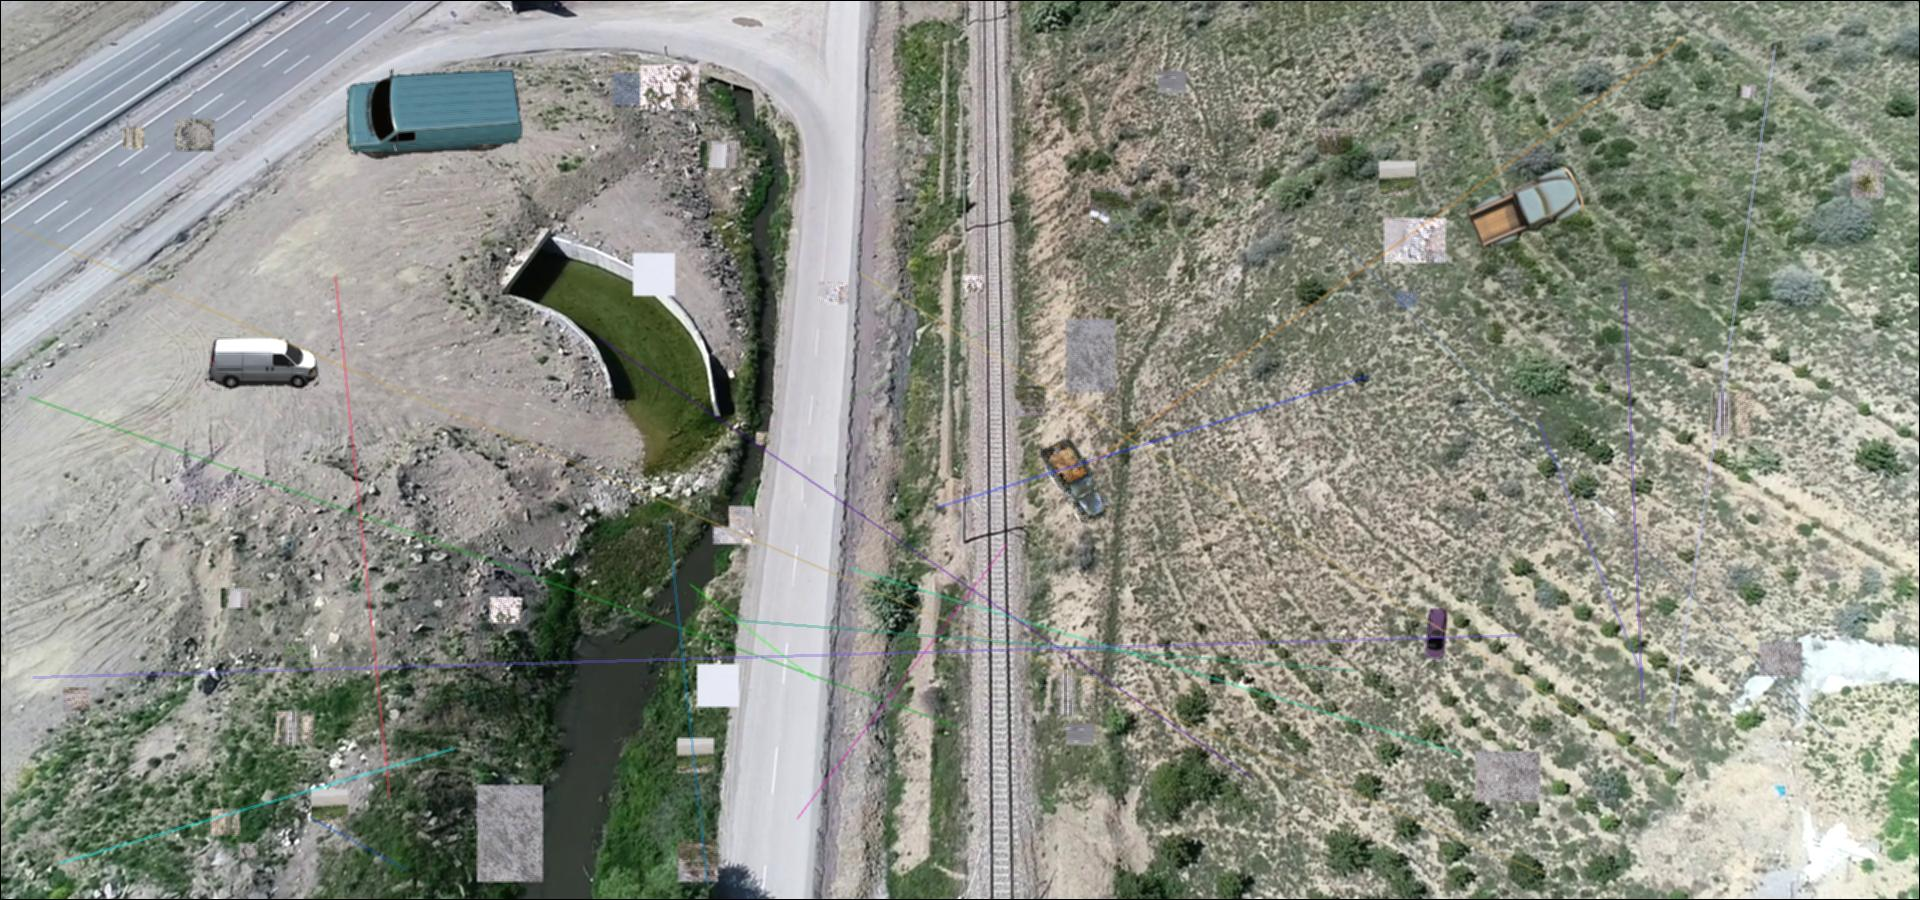arac: (344, 67, 525, 159), (1467, 160, 1589, 249), (1038, 435, 1109, 527), (202, 337, 322, 389), (1420, 607, 1449, 660)
